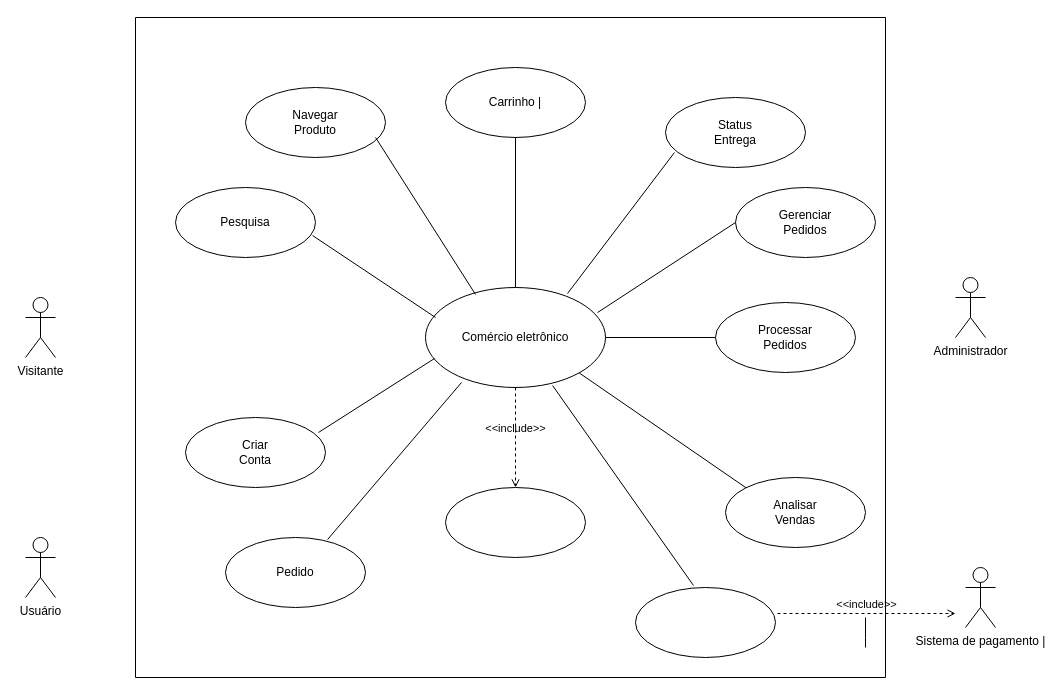
Image size: 1062x695. Some labels were removed from this diagram. Here are the shapes that lost their labels. From the top down, the centre of each, then its label:
At (x=515, y=522): "Efetuar Pedido".
At (x=705, y=622): "Processar Pedido".
